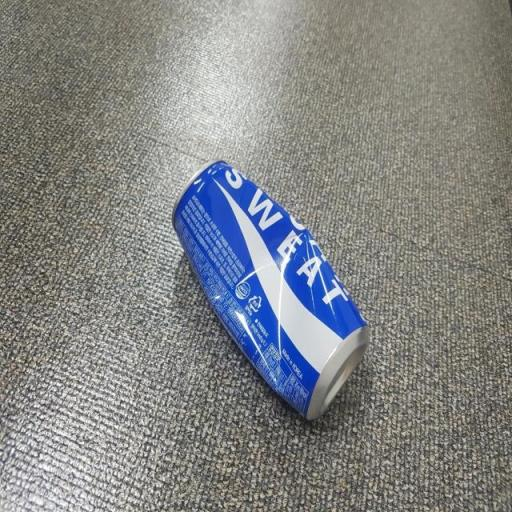metal: (157, 138, 385, 440)
